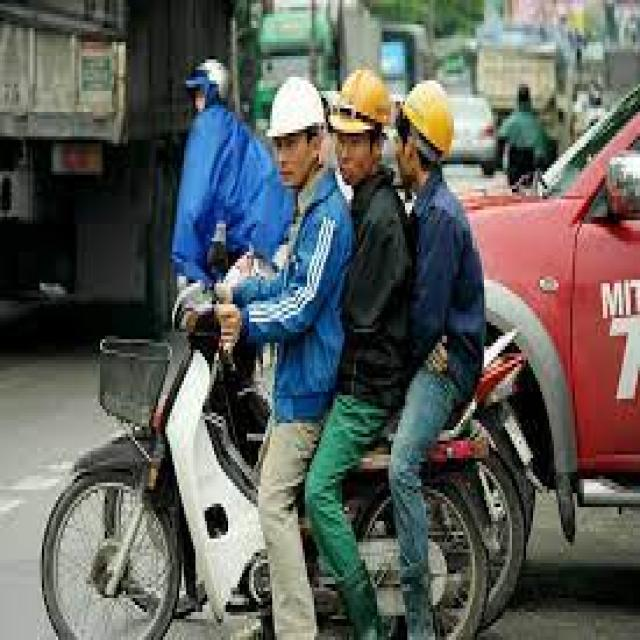Triple_riding: (232, 58, 488, 638)
